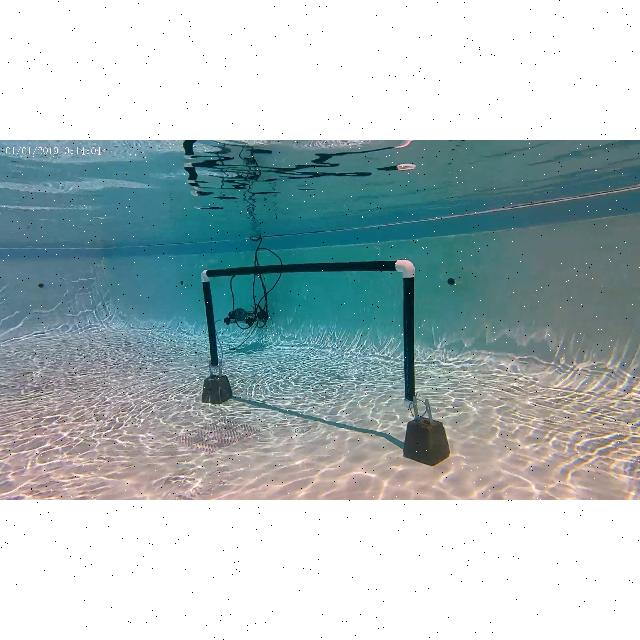prequal gate: (201, 260, 415, 408)
prequal gate leg l: (197, 268, 225, 368)
prequal gate leg r: (393, 258, 419, 406)
